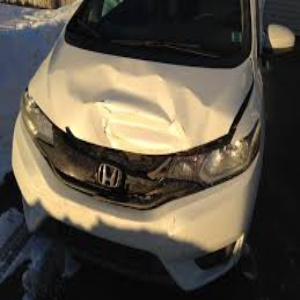bonnet: (51, 54, 226, 150)
